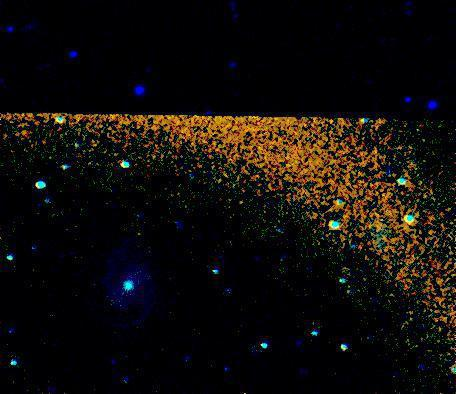star: (34, 141, 64, 171)
